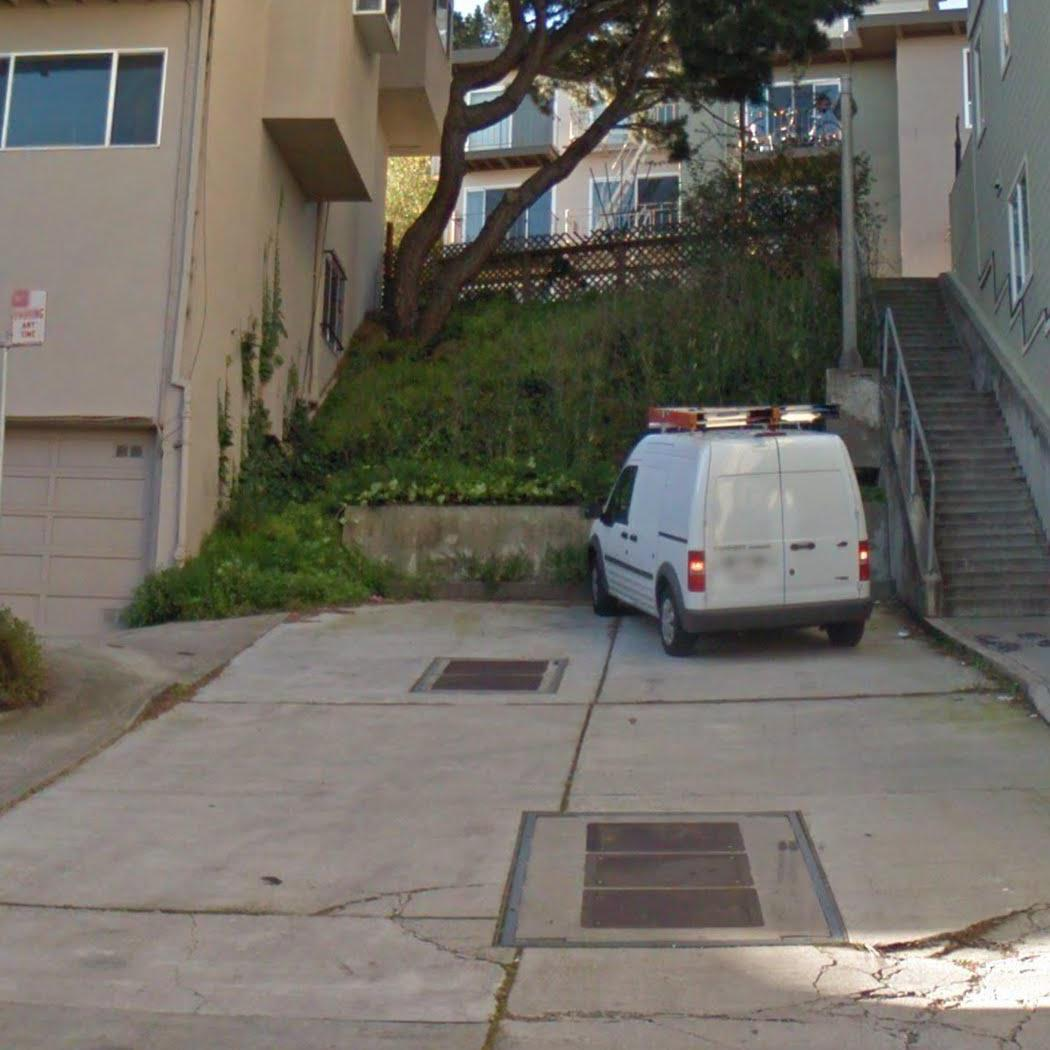No Parking Anytime: (5, 282, 52, 350)
